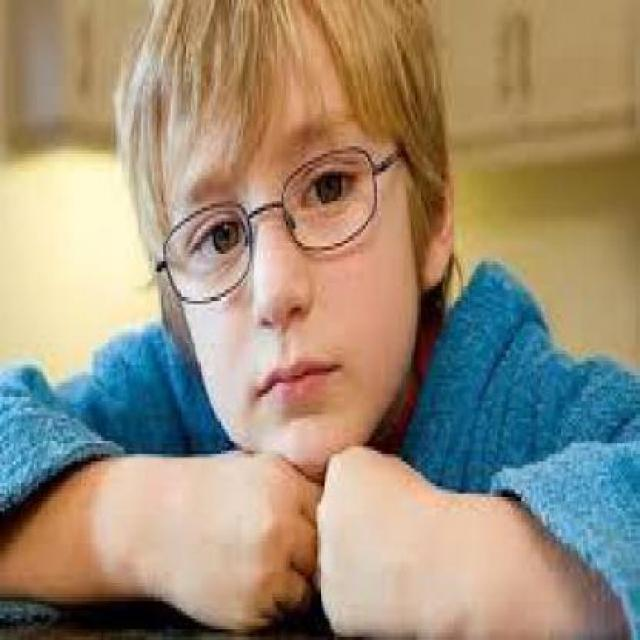glasses: (139, 139, 406, 304)
